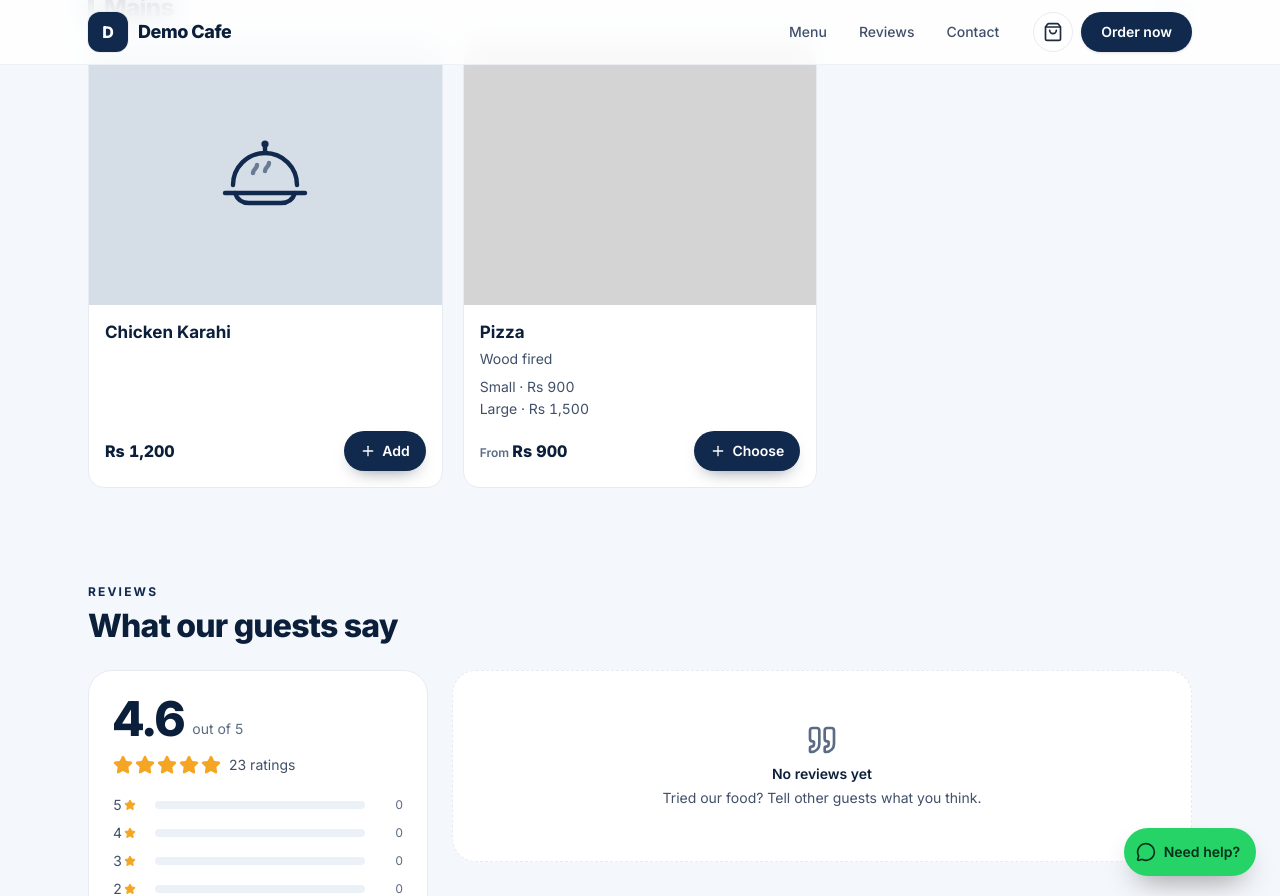
Test: StorefrontView ordering › adds to the cart, swaps the Add button for a stepper and shows the cart bar
(page scrolled)
Click the button with aria-label "Add Chicken Karahi": {"x": 385, "y": 450} [344, 430, 426, 470]
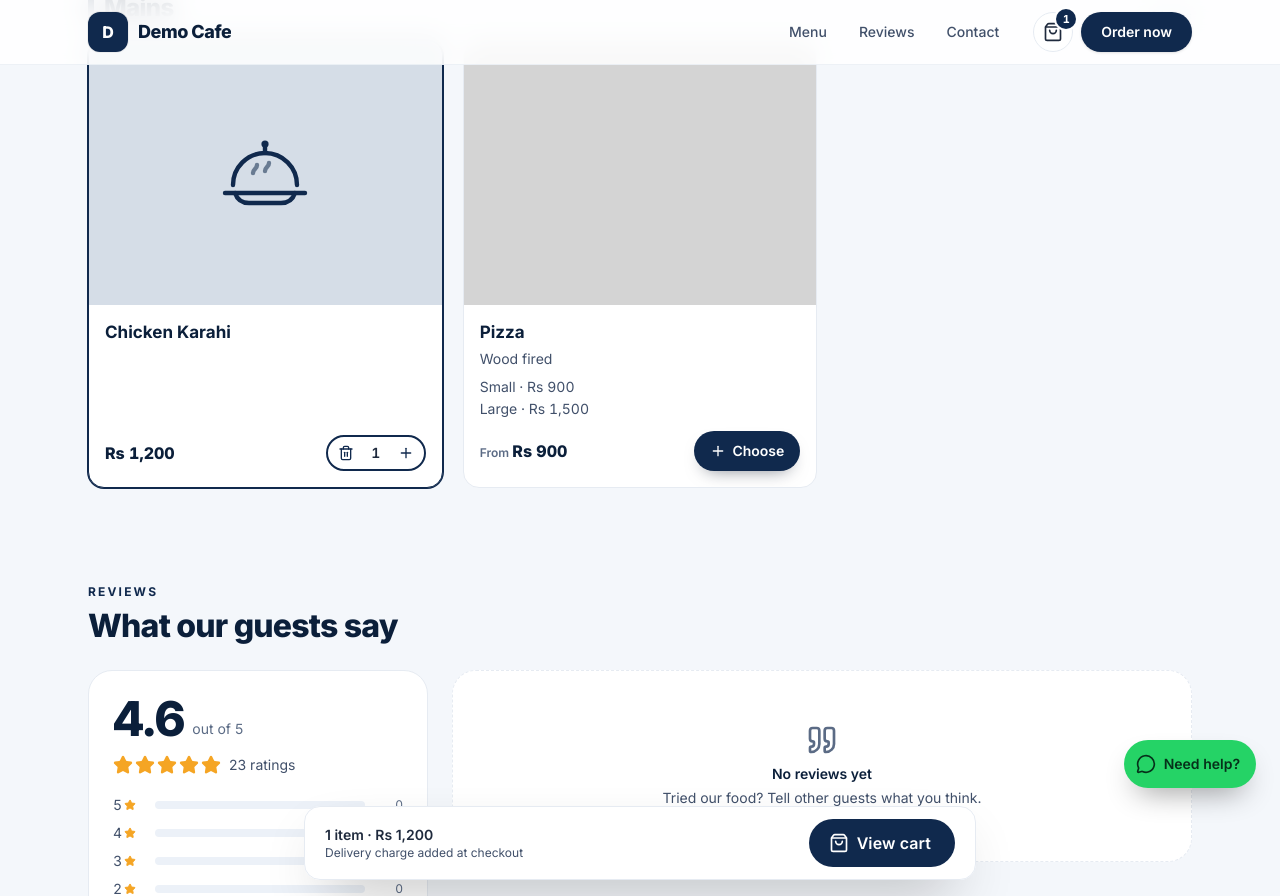
Click the button named "Increase quantity": {"x": 406, "y": 452} [388, 434, 424, 470]
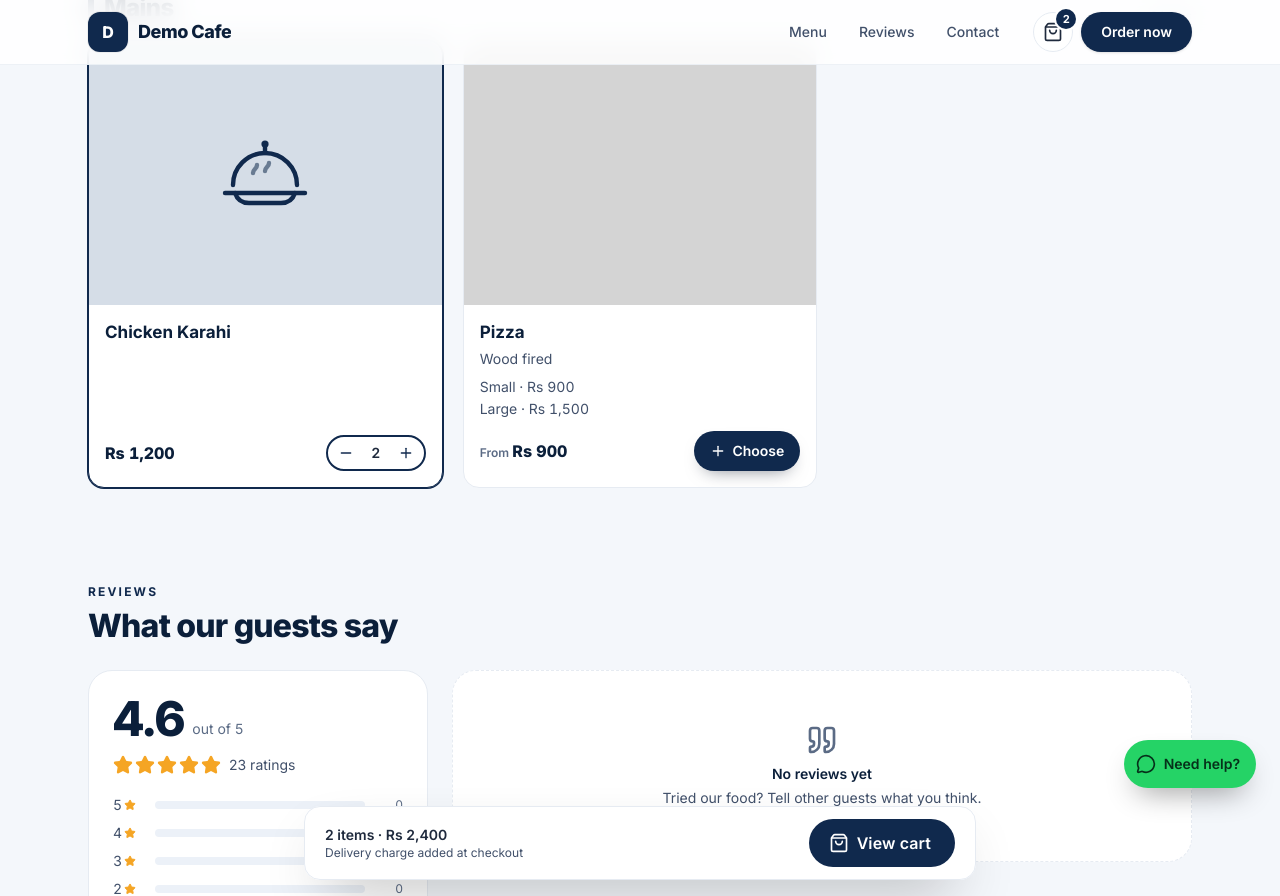
expect the button "View cart" is shown: met, box [809, 819, 955, 867]
expect the text "2 items · Rs 2,400" is shown: met, box [325, 826, 447, 843]
// Variants: Choose opens the picker, tapping a variant adds that line.
Click the button with aria-label "Choose Pizza": {"x": 747, "y": 450} [694, 430, 800, 470]
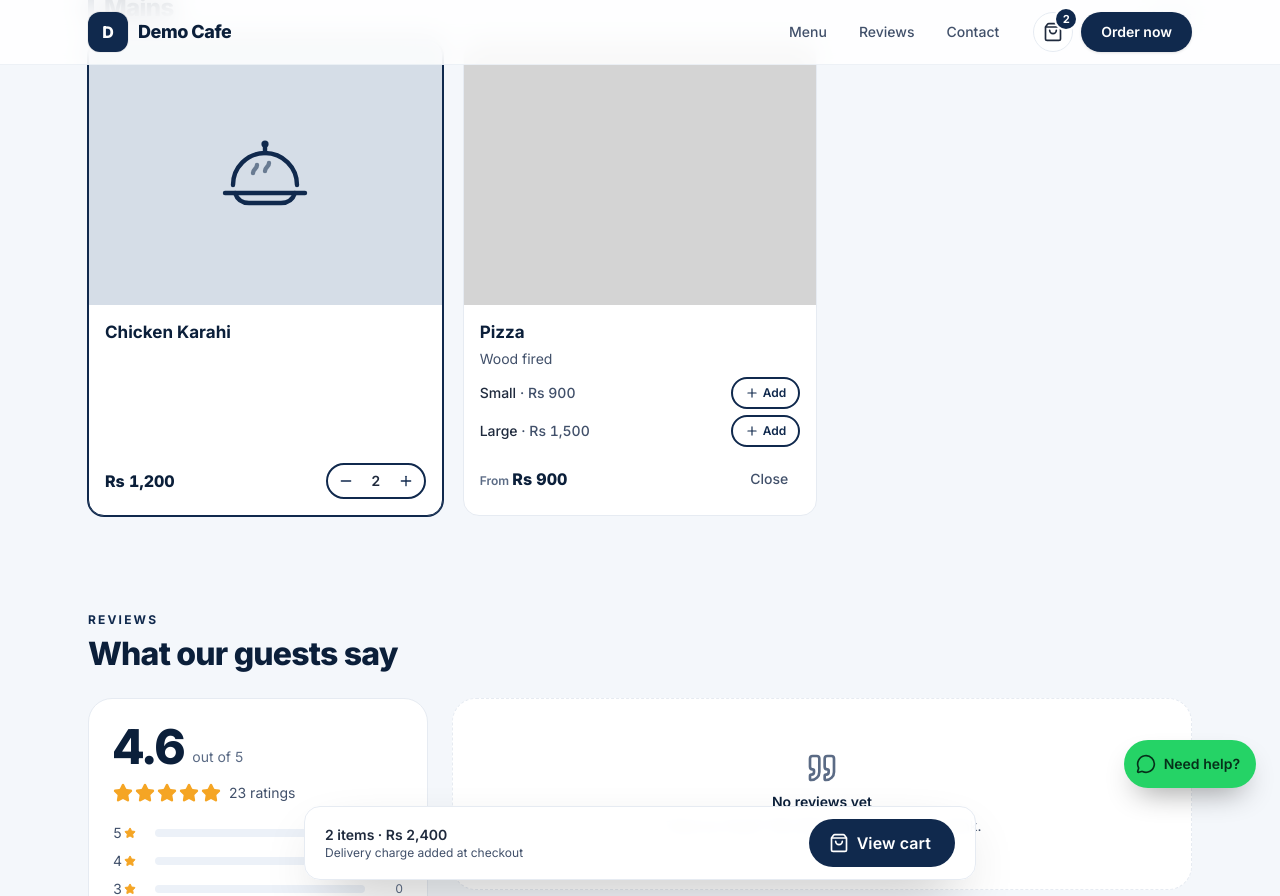
Click the button with aria-label "Add Pizza Large": {"x": 766, "y": 430} [731, 414, 800, 446]
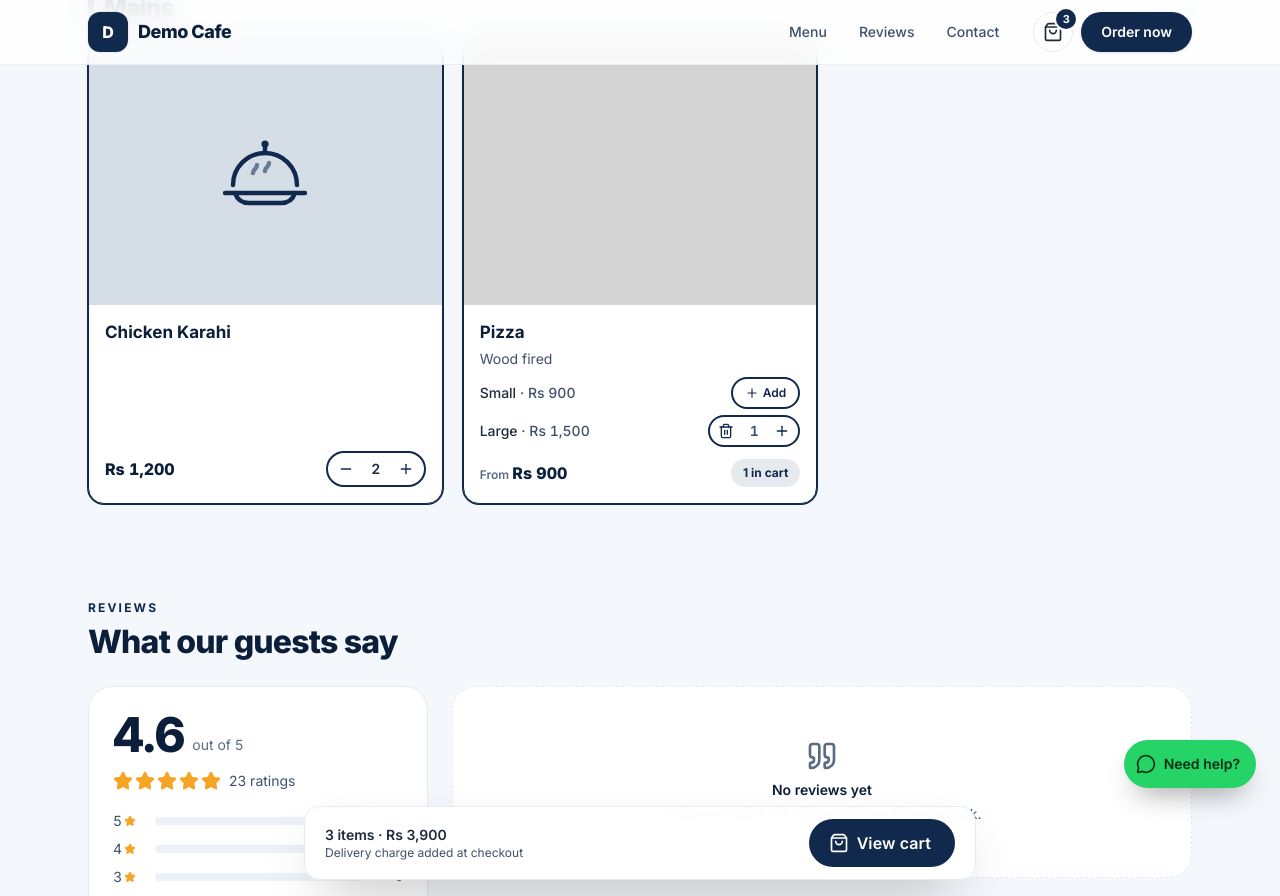
expect the text "1 in cart" is shown: met, box [731, 458, 800, 486]
expect the text "3 items · Rs 3,900" is shown: met, box [325, 826, 447, 843]
